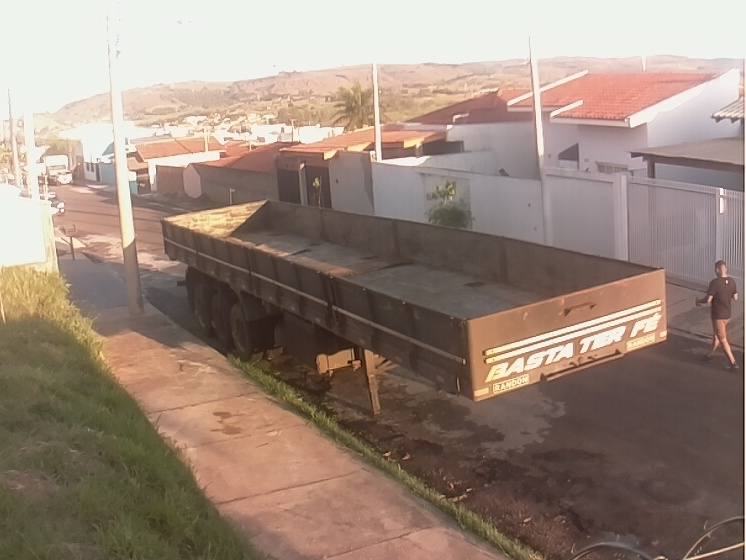person: (695, 259, 742, 373)
